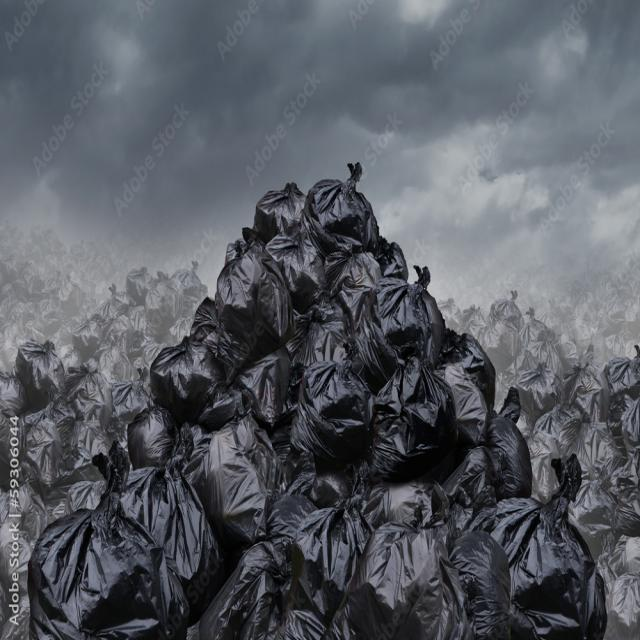trash: (32, 184, 606, 619)
